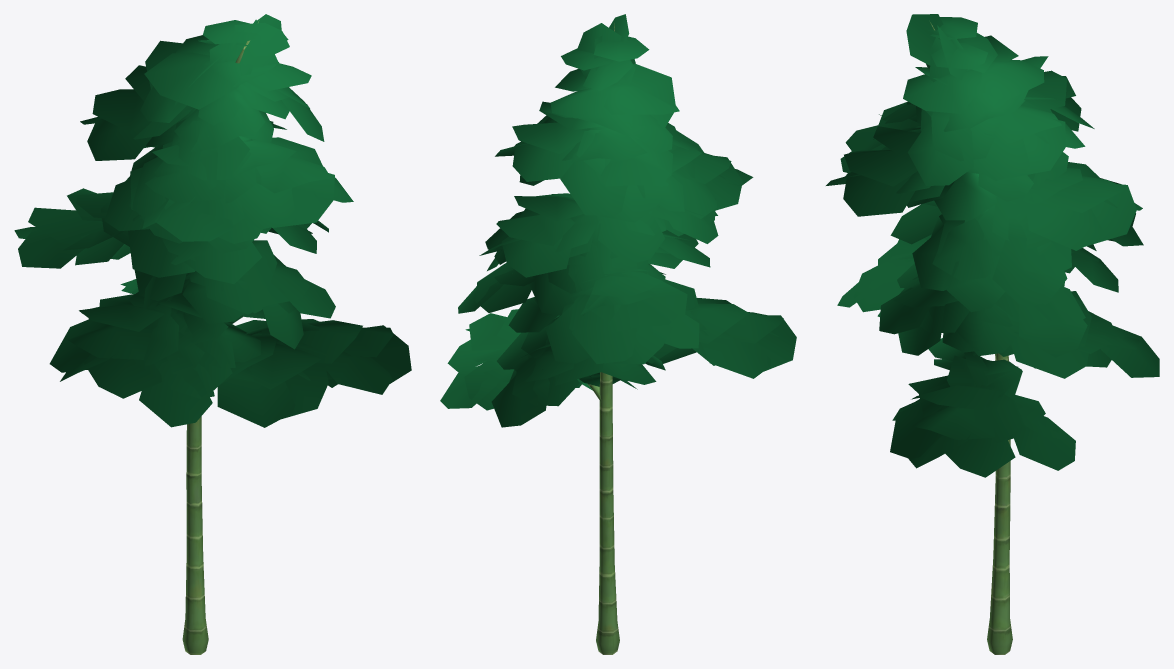
File: SM_Bamboo4.fbx
3 views of the same model, side by side, from view 1: azimuth 30°, elevation 25°; view 2: azimuth 150°, elevation 25°; view 3: azimuth 270°, elevation 25° (orthographic). The views are drawn at different scales.
Visible parts, largest first — view 1: SM_Bamboo4_LOD0; view 2: SM_Bamboo4_LOD0; view 3: SM_Bamboo4_LOD0.
Part boxes in pixels (box(x1,y1,x2,y2)): SM_Bamboo4_LOD0: box(14, 14, 411, 654); SM_Bamboo4_LOD0: box(440, 14, 796, 654); SM_Bamboo4_LOD0: box(826, 14, 1159, 654).
Size of what is drawn, in the model's own units: 11.5 by 9.6 by 20.54.
